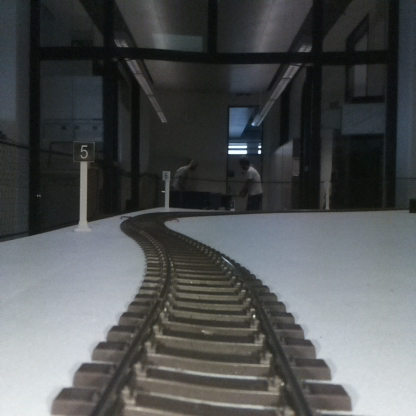black-info-5: (74, 141, 94, 230)
